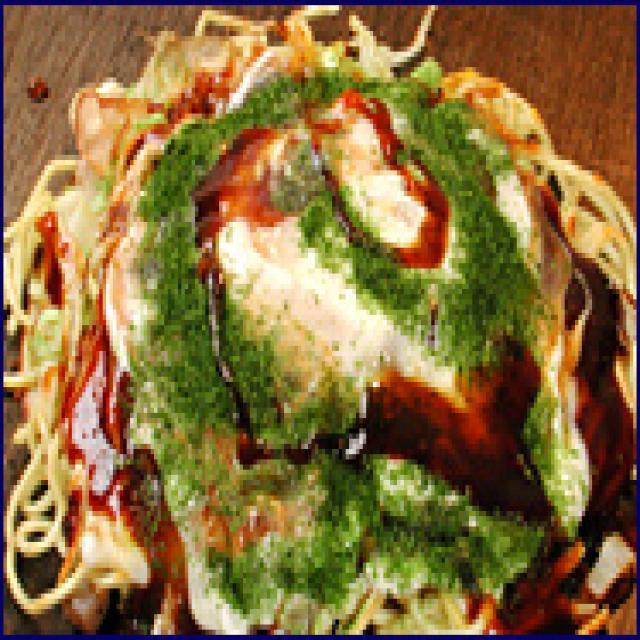蛋糕甜品: (0, 6, 623, 620)
